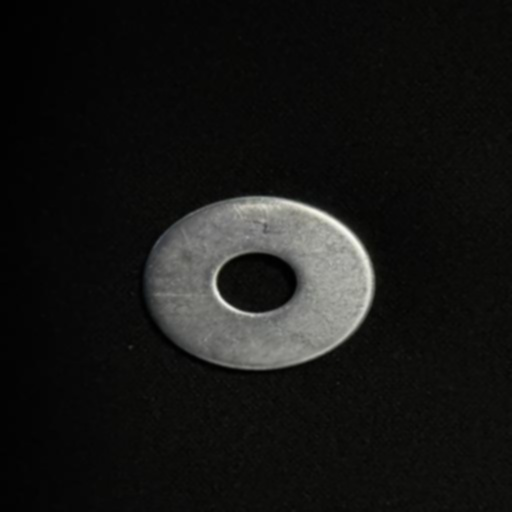Product: (143, 197, 375, 370)
Scratch: (148, 285, 216, 303)
surface damage: (242, 215, 289, 240)
